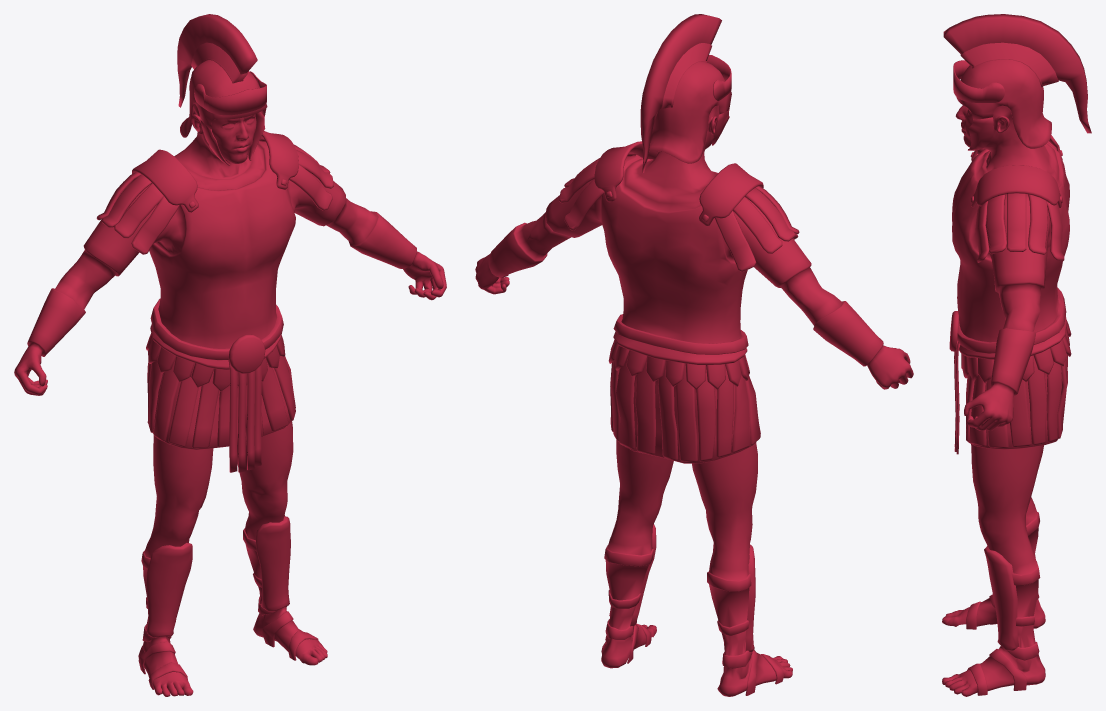
File: modelNonAnimated.dae
3 renders of one model, left to right at view 1: azimuth 30°, elevation 25°; view 2: azimuth 150°, elevation 25°; view 3: azimuth 270°, elevation 25°, orthographic.
Parts seen in each view (by area): view 1: Roman_soldier, soldier_helmet; view 2: Roman_soldier, soldier_helmet; view 3: Roman_soldier, soldier_helmet.
Part boxes in pixels (box(x1,y1,x2,y2)): Roman_soldier: box(14, 104, 446, 696); soldier_helmet: box(177, 14, 267, 165); Roman_soldier: box(475, 105, 913, 696); soldier_helmet: box(640, 14, 731, 173); Roman_soldier: box(942, 105, 1071, 696); soldier_helmet: box(943, 14, 1091, 150).
Size of the model in its own units: 2.79 by 0.8474 by 3.99.
